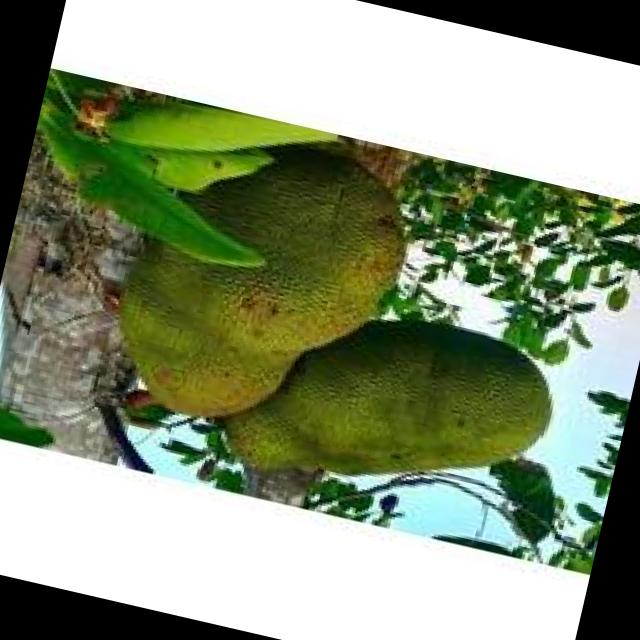Fruit: (73, 102, 440, 472), (214, 262, 578, 526)
